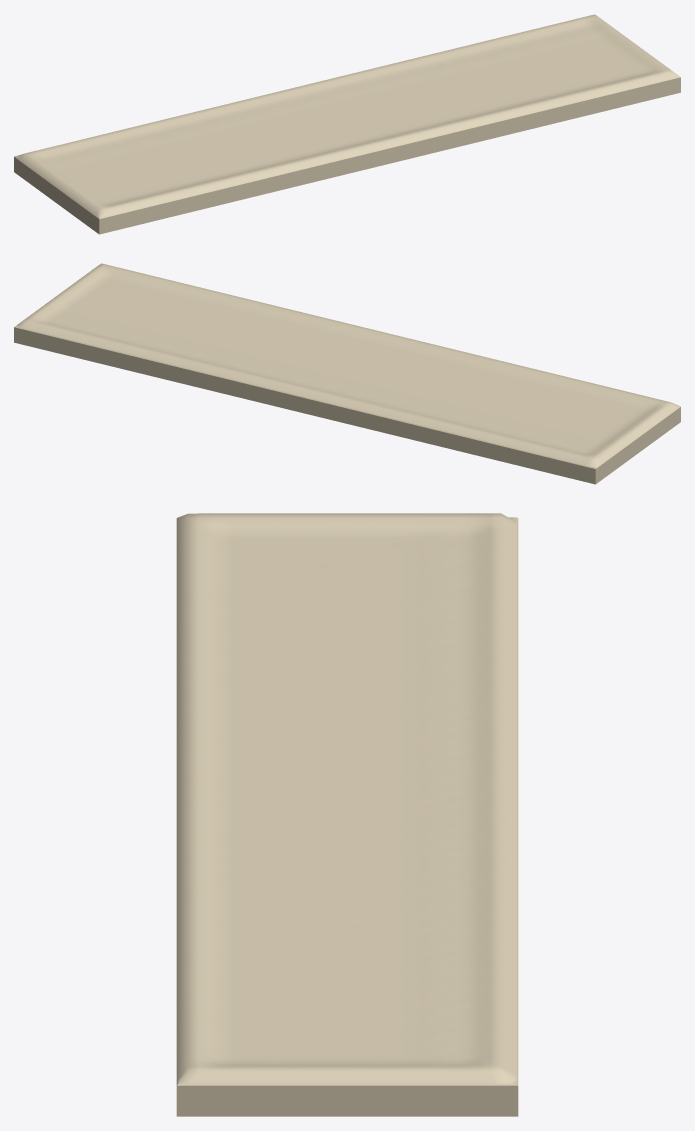
The model's file is mahsulot.glb.
The picture shows the model from 3 angles, top to bottom: view 1: azimuth 30°, elevation 25°; view 2: azimuth 150°, elevation 25°; view 3: azimuth 270°, elevation 25°; orthographic projection. The views are drawn at different scales.
Visible parts, largest first — view 1: mahsulot; view 2: mahsulot; view 3: mahsulot.
Part boxes in pixels (x1=…): mahsulot: x1=14, y1=14, x2=680, y2=234; mahsulot: x1=14, y1=263, x2=680, y2=484; mahsulot: x1=176, y1=513, x2=518, y2=1116.
Size of the model in its own units: 1.2 by 0.0398 by 0.305.
